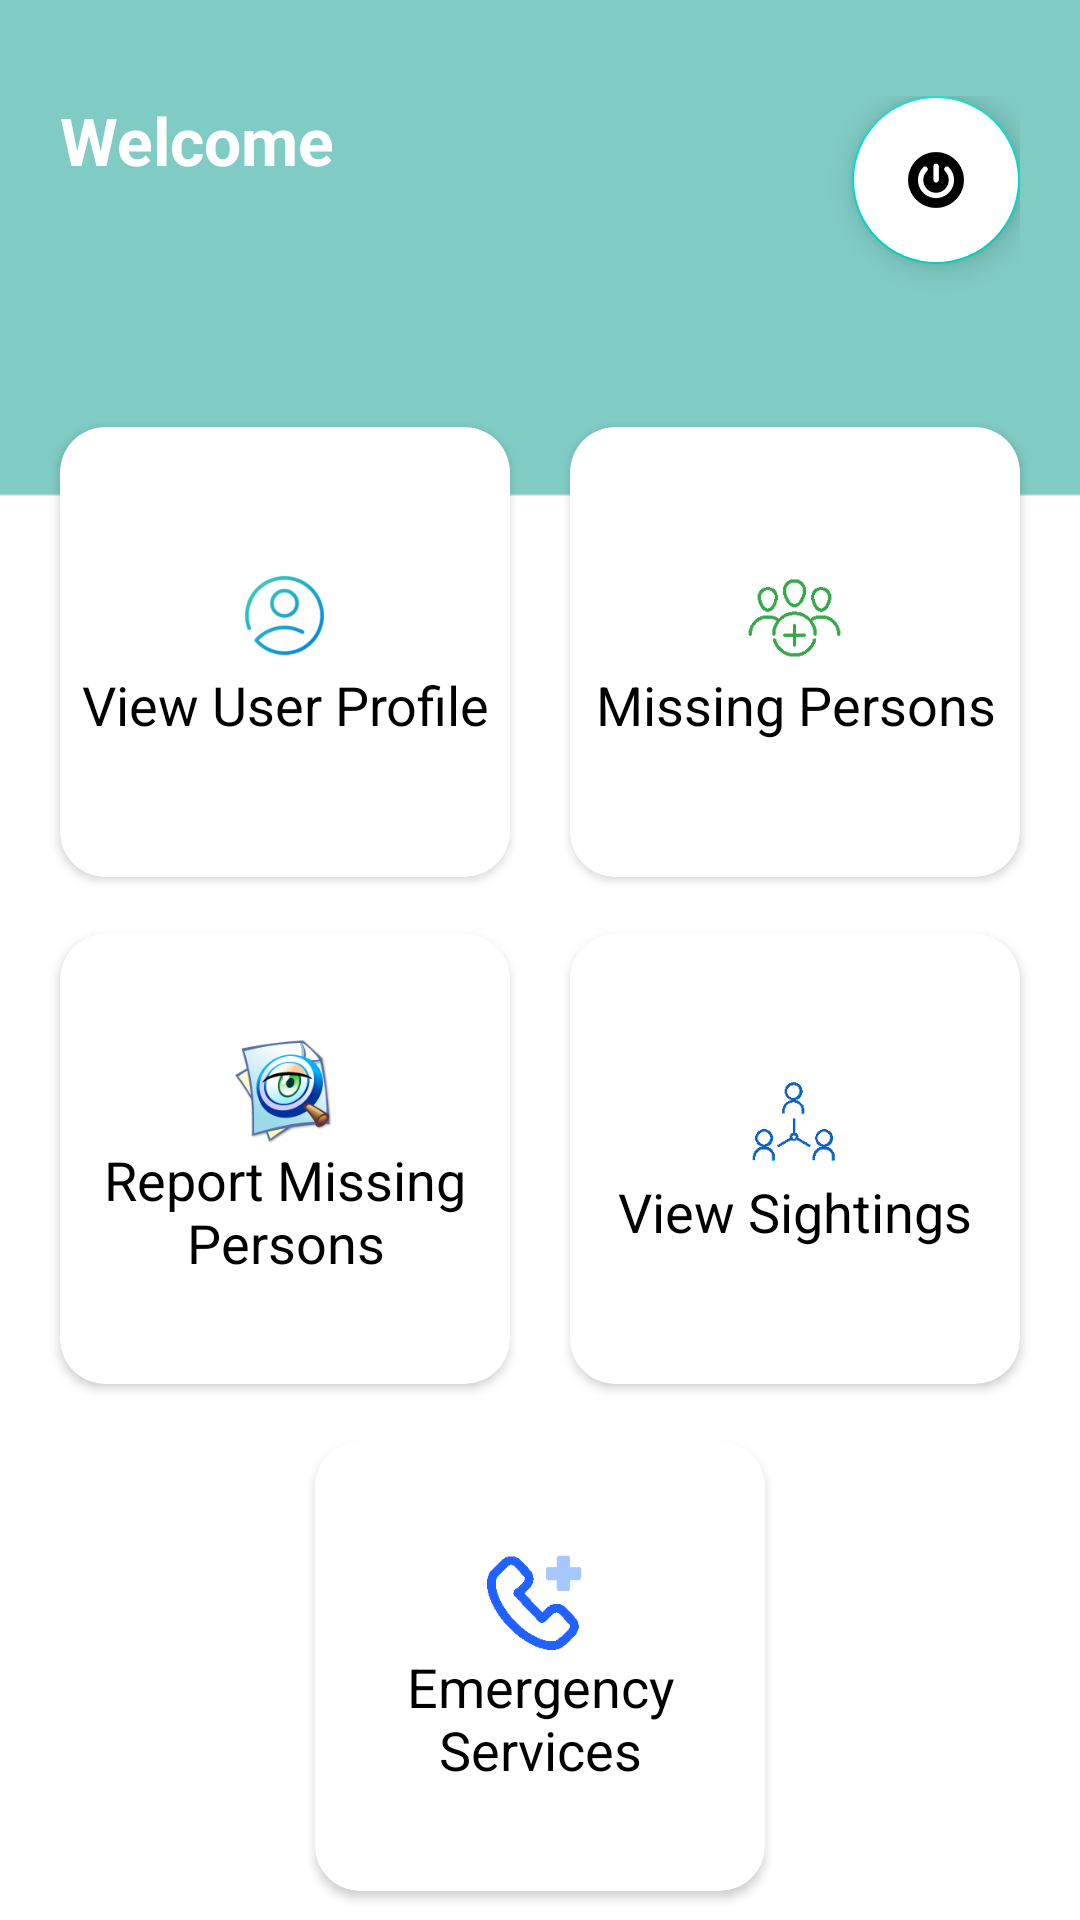

Point at icon controls on the screen. Image size 1080w x 1920h, points as point (x, y).
power: point (936, 180)
